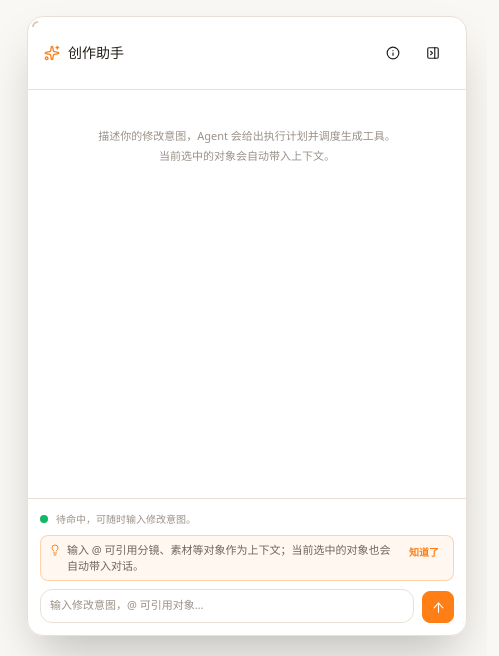
AgentDock origin/main visible fidelity › keeps workspace and collapse interactions without maximize controls
Click the button named "工作区事实". click: click(393, 53)
box: [376, 35, 410, 71]
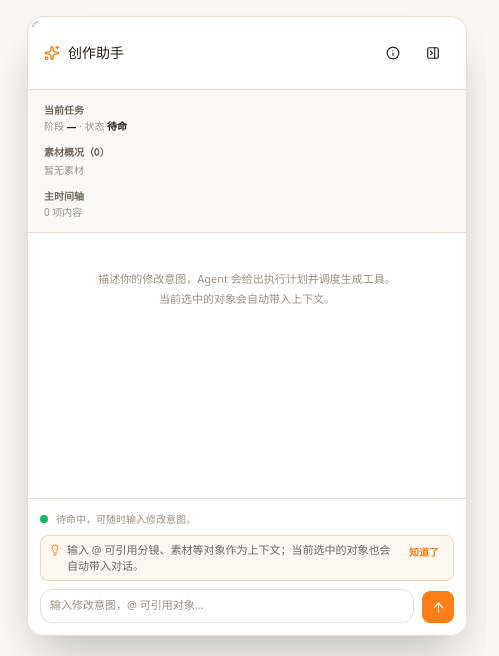
Expected: the field named "输入修改意图，@ 可引用对象…" is shown, [40, 589, 414, 623]
Expected: the text "当前任务" is shown, [44, 103, 84, 117]
Expected: the text "素材概况（0）" is shown, [44, 145, 110, 159]
Click the button named "收起 Agent 面板". click: click(433, 53)
box: [416, 35, 450, 71]
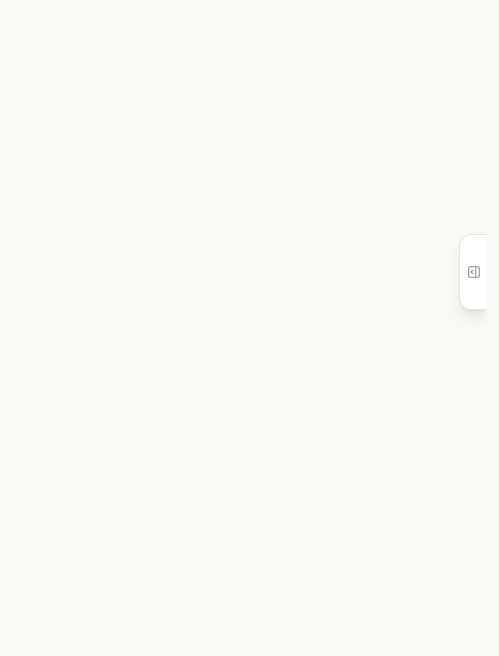
Expected: the button named "打开 Agent" is shown, [459, 234, 487, 310]
